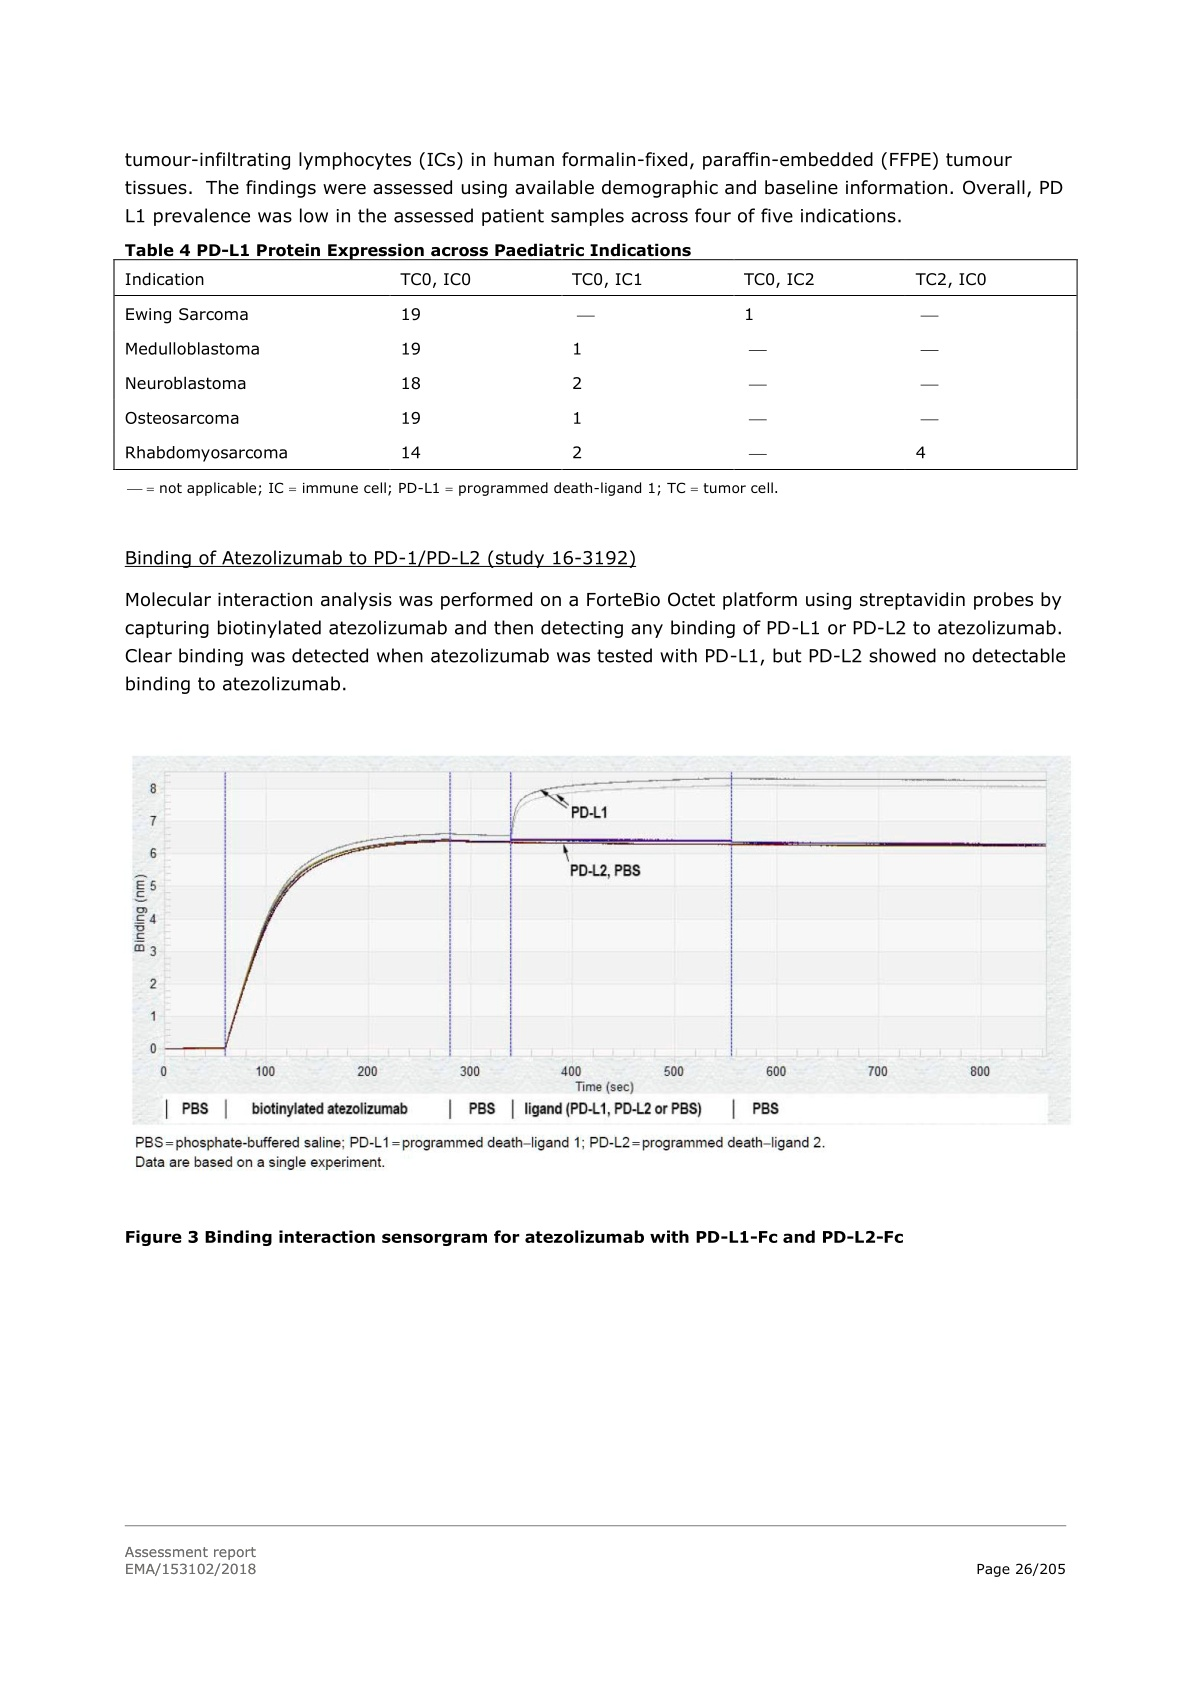partial_lined: (111, 256, 1081, 473)
